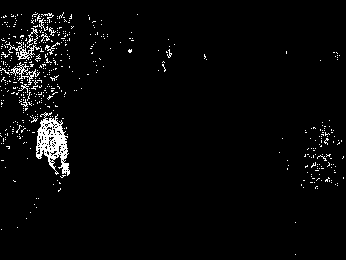person: (36, 112, 72, 193)
